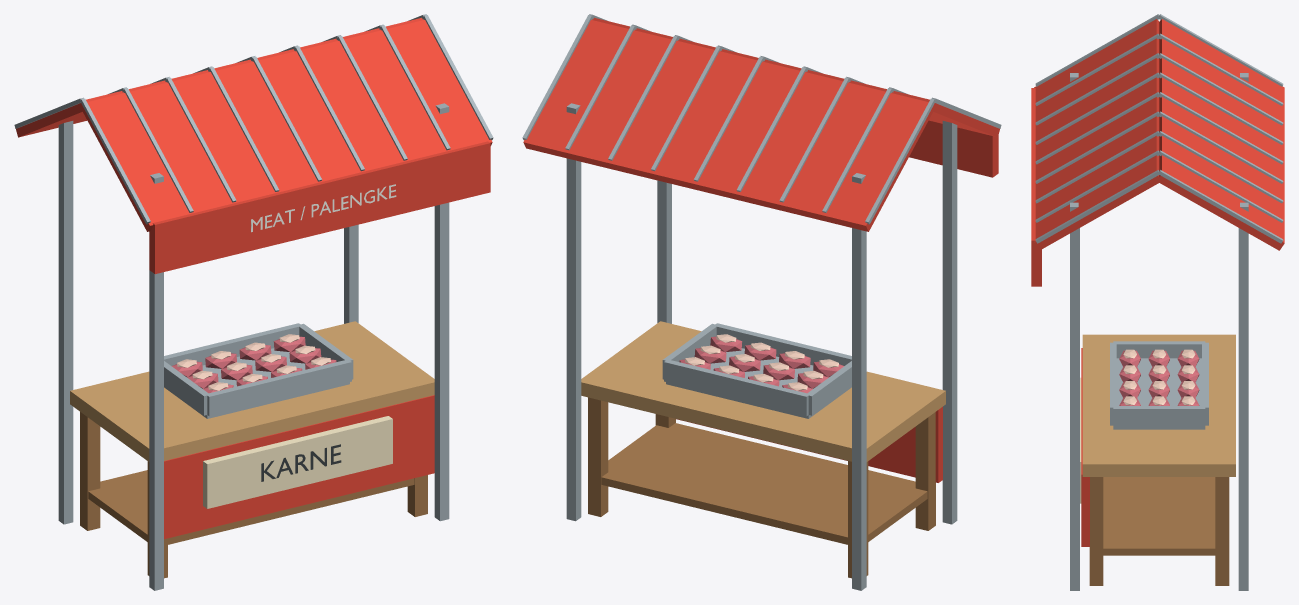
File: TR_Stall_Meat.glb
3 renders of one model, left to right at view 1: azimuth 30°, elevation 25°; view 2: azimuth 150°, elevation 25°; view 3: azimuth 270°, elevation 25°, orthographic. The views are drawn at different scales.
Visible parts, largest first — view 1: TR_Stall_Meat; view 2: TR_Stall_Meat; view 3: TR_Stall_Meat.
Boxes of the visible parts, x1=… form: TR_Stall_Meat: x1=14, y1=14, x2=493, y2=590; TR_Stall_Meat: x1=522, y1=14, x2=1001, y2=590; TR_Stall_Meat: x1=1031, y1=14, x2=1284, y2=590.
Bounding box in the file's own units: 2.43 × 3.1 × 1.66.
